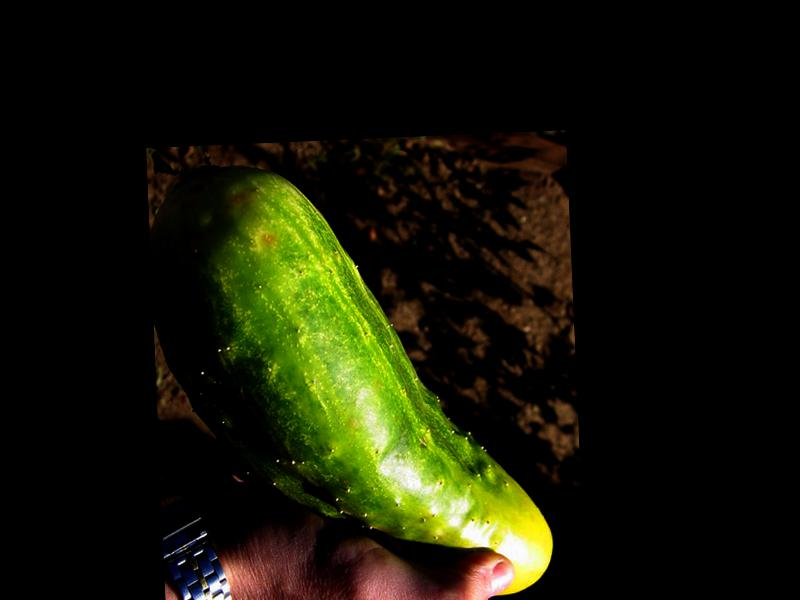Cucumber: (146, 151, 554, 600)
